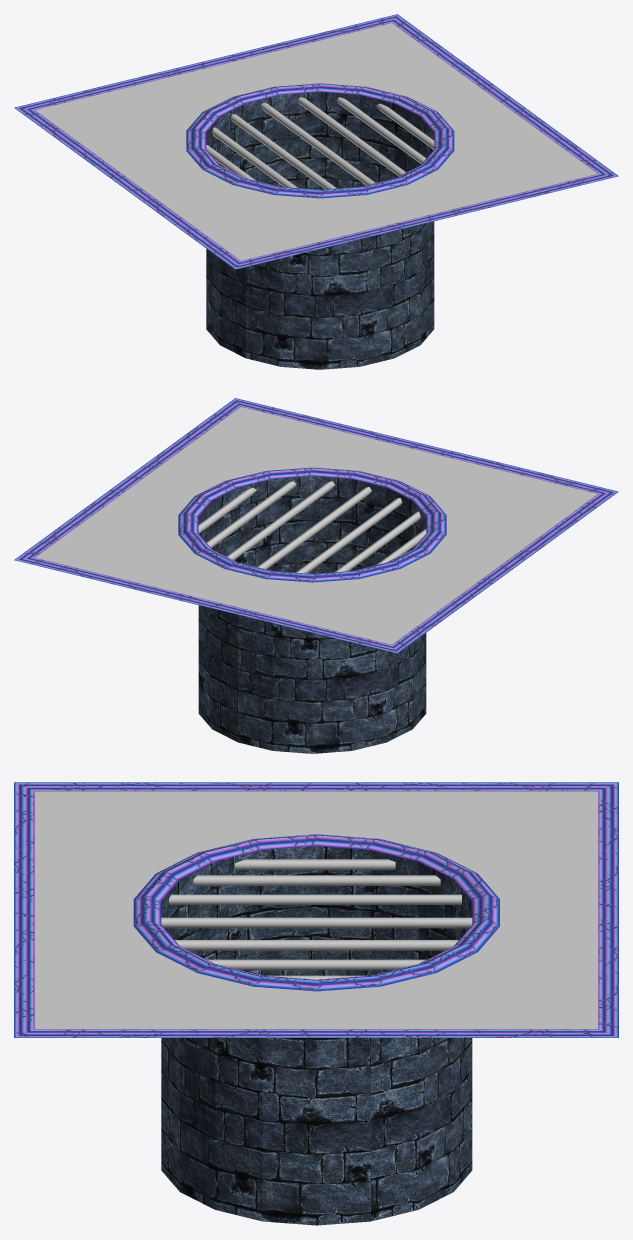
Rendered from Floor1Update.FBX.
The picture shows the model from 3 angles, top to bottom: view 1: azimuth 30°, elevation 25°; view 2: azimuth 150°, elevation 25°; view 3: azimuth 270°, elevation 25°; orthographic projection. The views are drawn at different scales.
Parts seen in each view (by area): view 1: Floor03; view 2: Floor03; view 3: Floor03.
Part boxes in pixels (<box>): Floor03: <box>14,14,618,369</box>; Floor03: <box>14,398,618,753</box>; Floor03: <box>14,782,618,1225</box>.
Bounding box in the file's own units: 91.85 × 41.98 × 91.85.
